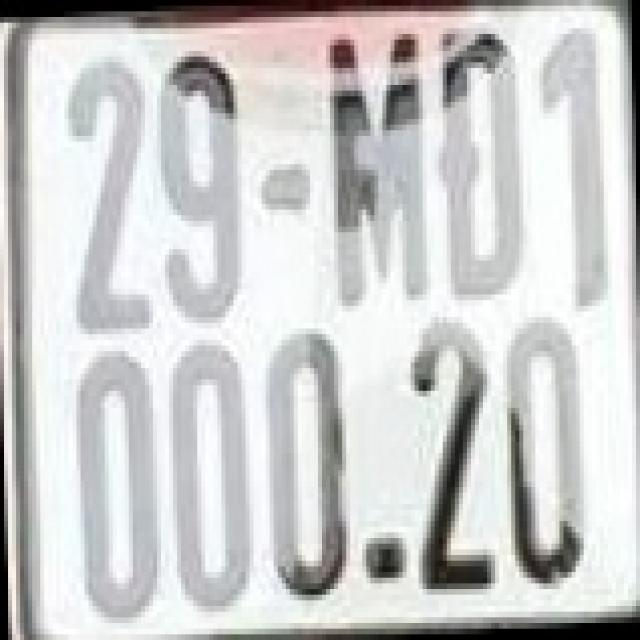0: (72, 346, 161, 618), (266, 323, 350, 600), (169, 340, 254, 612), (507, 317, 588, 584)
1: (535, 34, 604, 306)
2: (60, 51, 157, 334), (411, 317, 499, 595)
9: (157, 51, 246, 323)
D: (439, 17, 527, 306)
M: (322, 19, 431, 308)
